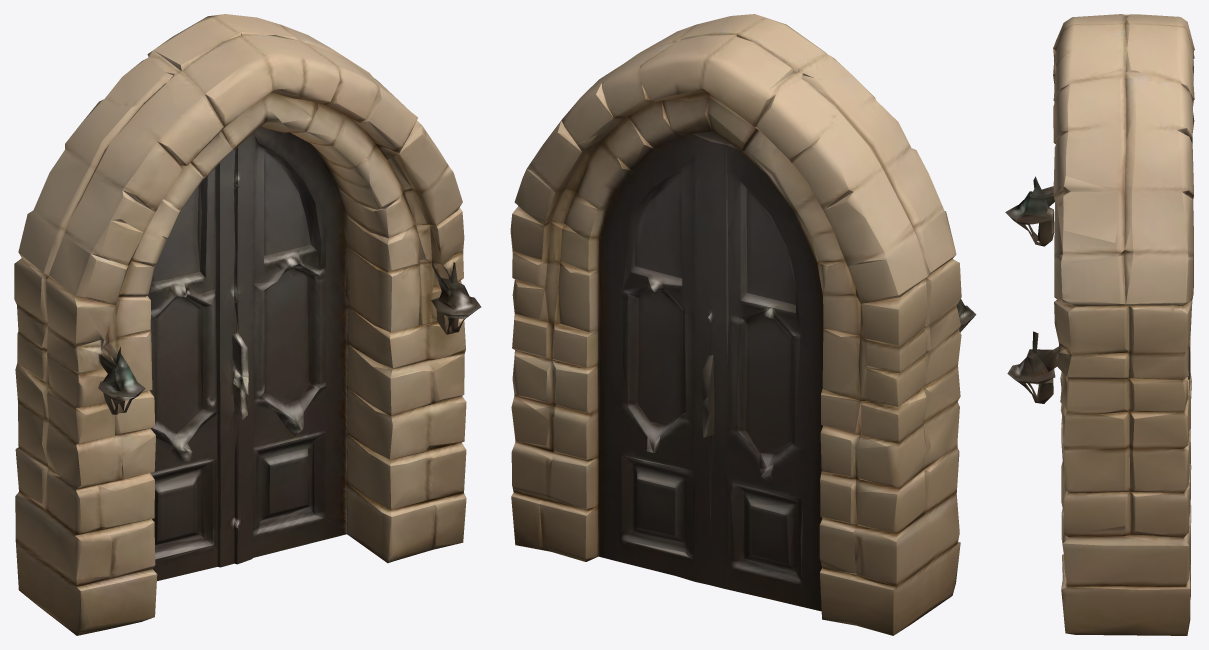
File: mansionDoor.glb
The picture shows the model from 3 angles, left to right: view 1: azimuth 30°, elevation 25°; view 2: azimuth 150°, elevation 25°; view 3: azimuth 270°, elevation 25°; orthographic projection. The views are drawn at different scales.
Visible parts, largest first — view 1: model; view 2: model; view 3: model.
Boxes of the visible parts, left/top/right/bottom form: model: left=14, top=14, right=481, bottom=635; model: left=510, top=14, right=976, bottom=635; model: left=1005, top=14, right=1194, bottom=635.
Size of the model in its own units: 1.46 by 1.9 by 0.6277.
1 material, 1 textured.
